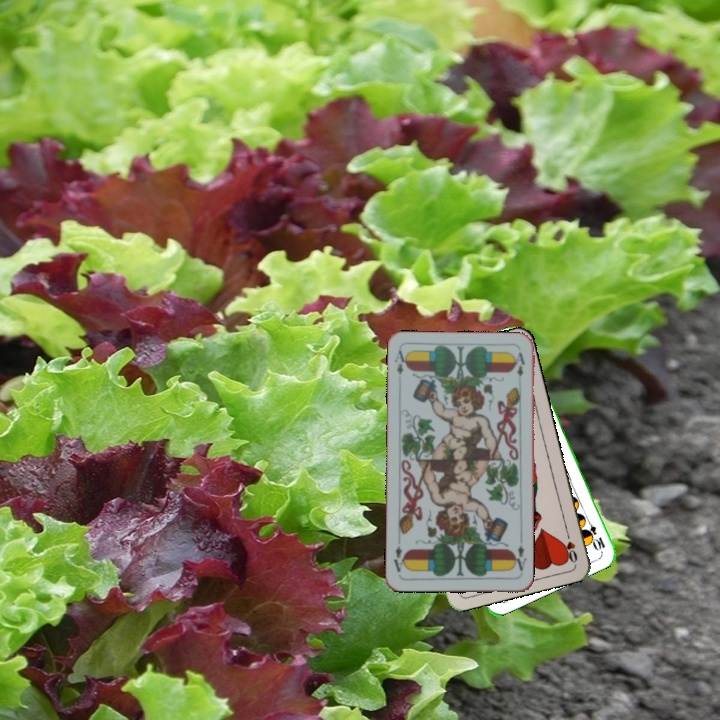E10: (581, 514, 608, 552)
EA: (509, 536, 529, 573), (391, 346, 410, 377)
HO: (560, 525, 580, 566)
